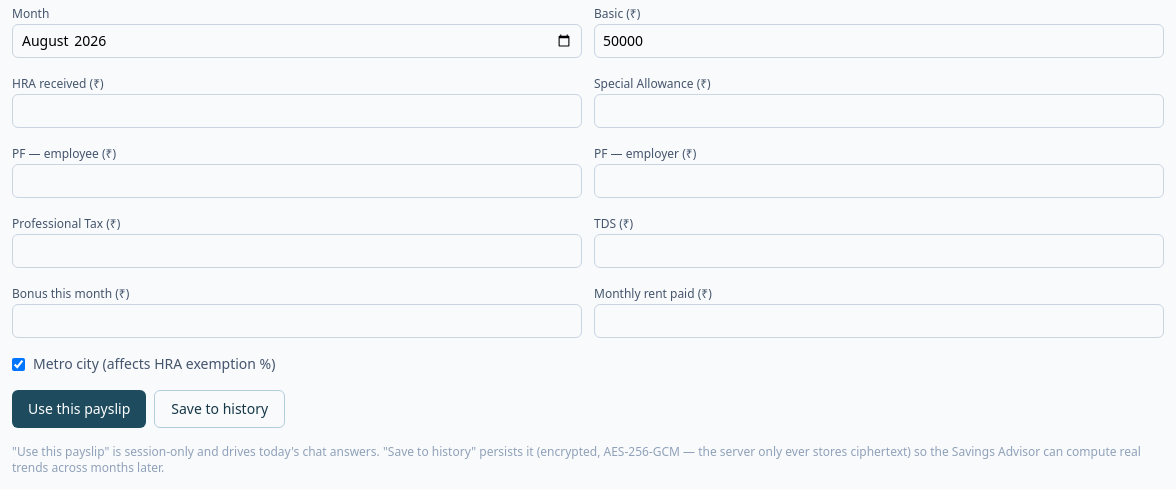
Test: ManualEntryForm › Save to history › encrypts and saves, then adds the entry to payslip history
The image size is (1176, 489).
Click the button "Save to history" at {"x": 220, "y": 409}, box left=154, top=390, right=285, bottom=428
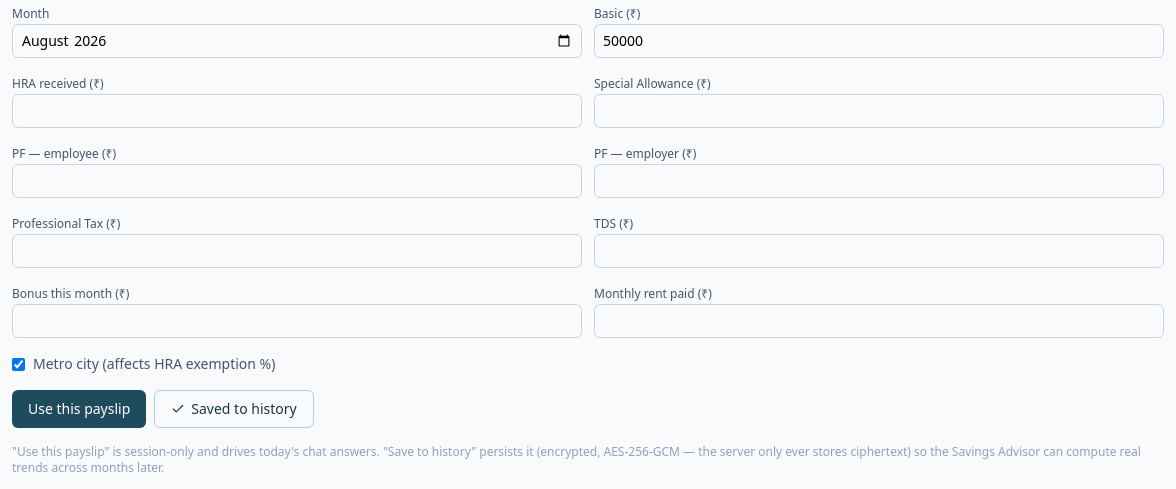
Expected: the button "Saved to history" is shown, left=154, top=390, right=314, bottom=428
